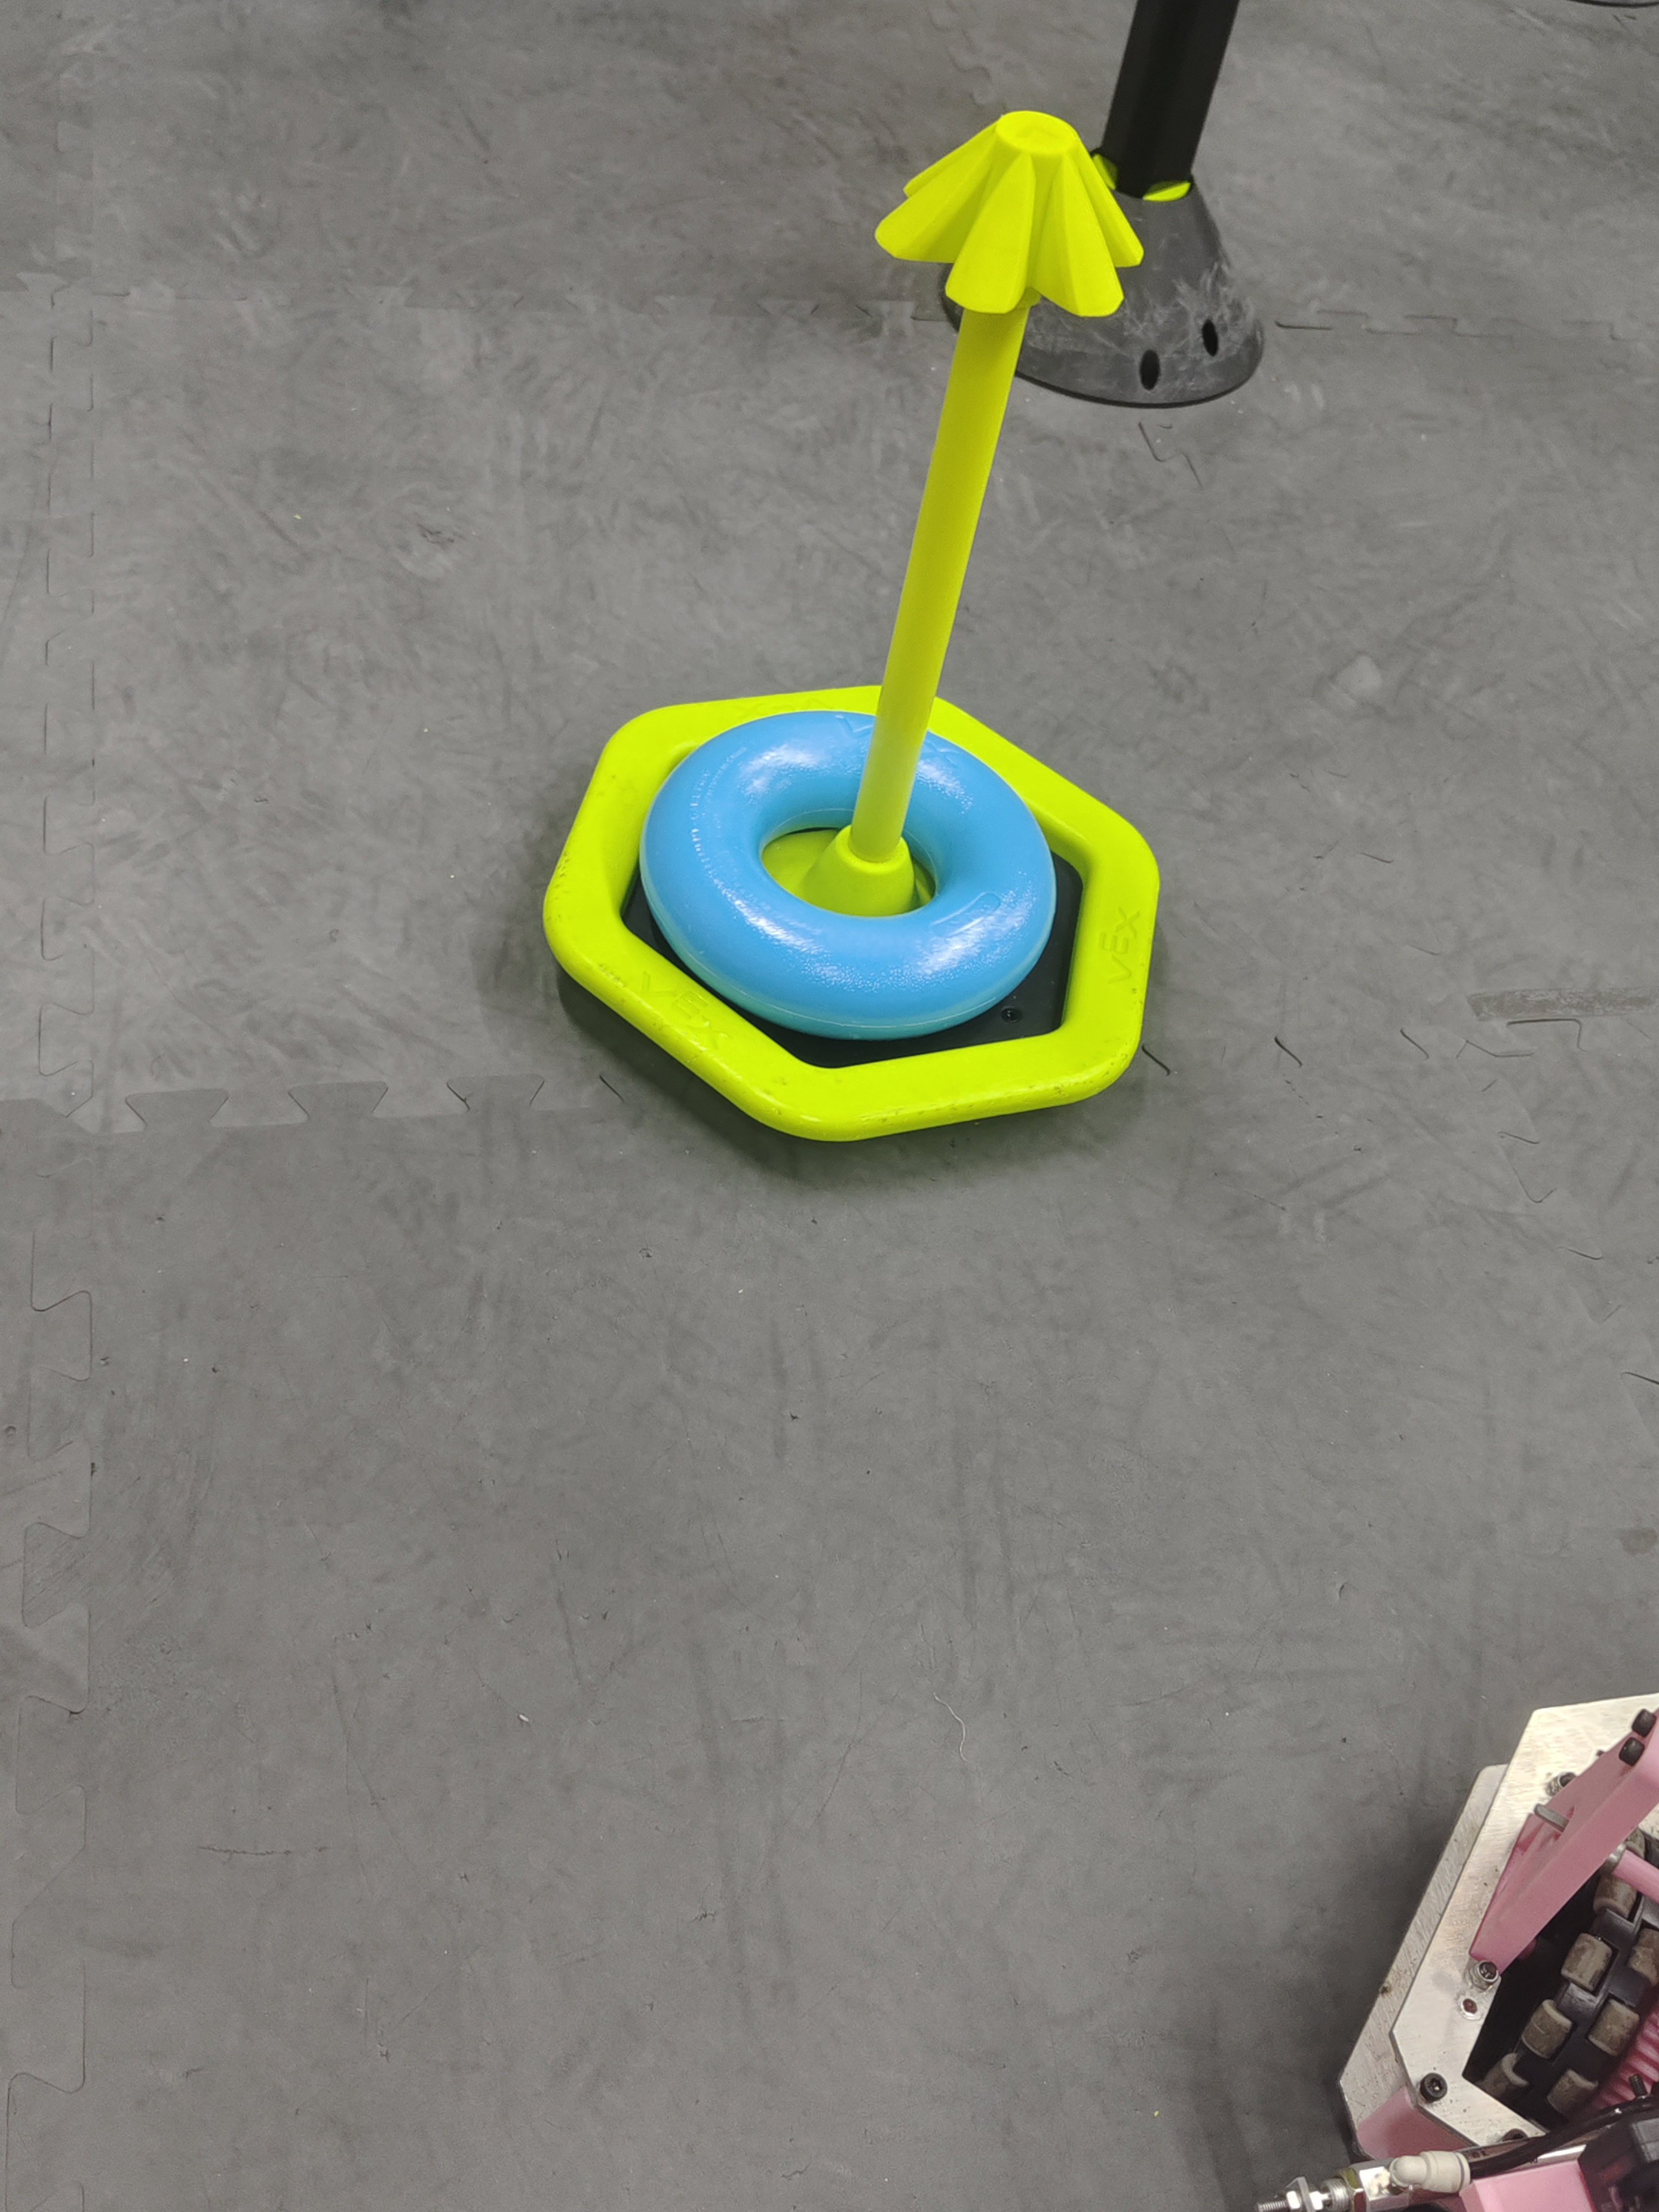blue: (640, 712, 1049, 1036)
score: (523, 103, 1215, 1153)
